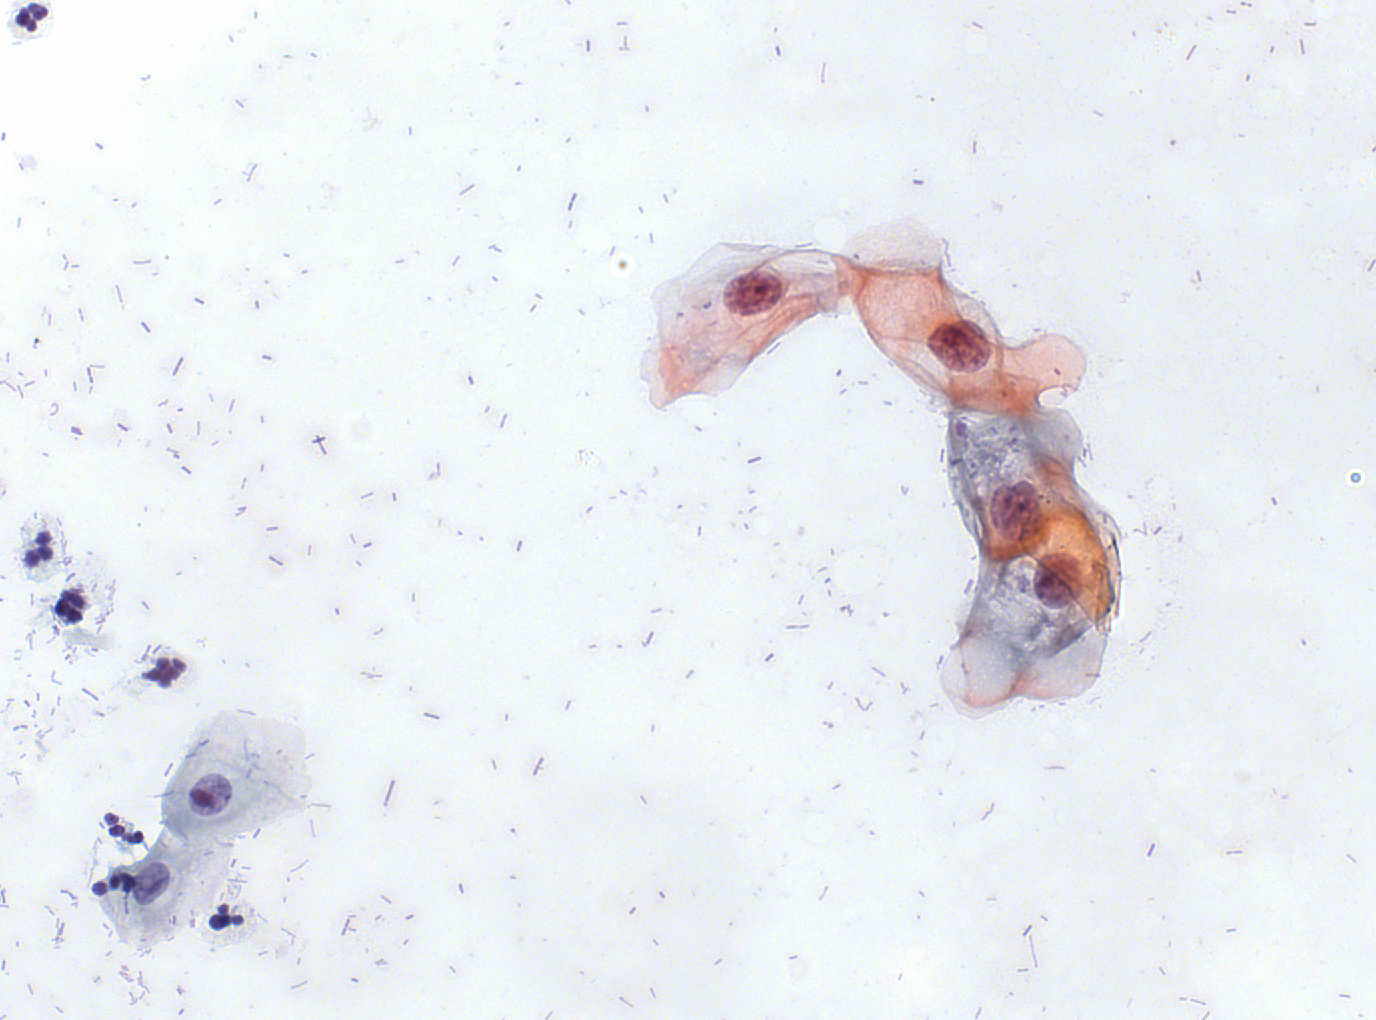Abn: (989, 478, 1048, 547), (923, 318, 991, 377), (1034, 552, 1085, 612), (721, 271, 783, 319)
